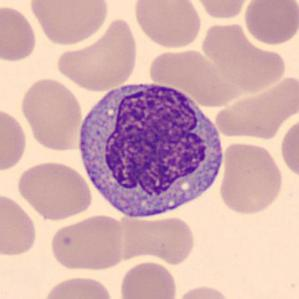Monocyte: (74, 73, 228, 226)
RBC: (54, 16, 141, 92), (148, 49, 244, 113), (204, 23, 286, 93), (216, 74, 299, 140), (217, 140, 285, 216), (17, 76, 84, 152), (14, 159, 94, 222), (48, 212, 127, 273), (27, 0, 110, 47), (125, 213, 198, 265), (131, 0, 204, 50), (0, 190, 39, 259), (242, 0, 298, 47), (117, 258, 179, 299), (0, 3, 39, 64), (0, 104, 29, 174), (40, 273, 115, 299), (190, 0, 256, 21), (278, 114, 298, 181), (173, 283, 234, 299)
